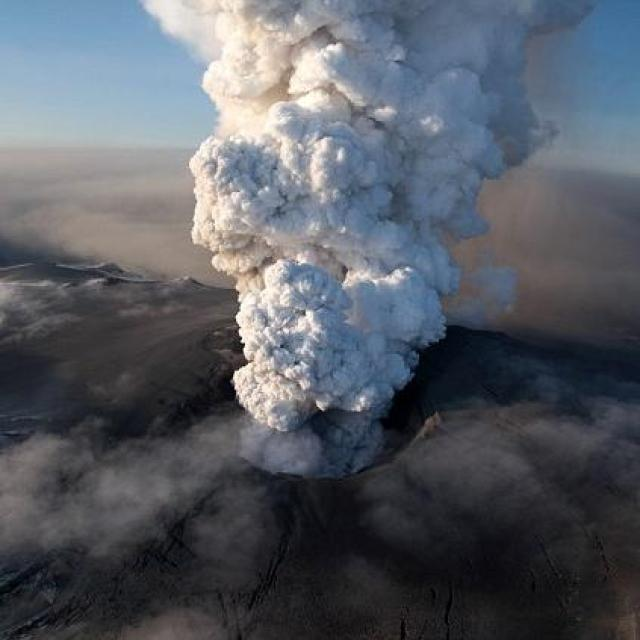Smoke: (152, 0, 606, 481)
